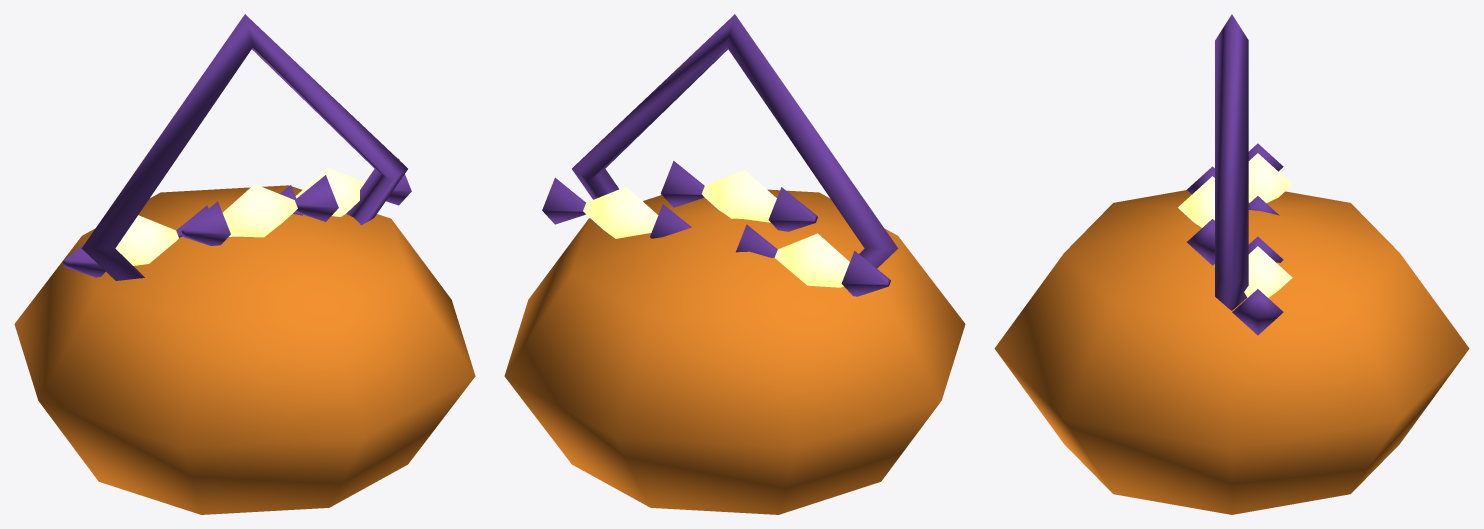
File: candy_basket_low.glb
3 renders of one model, left to right at view 1: azimuth 30°, elevation 25°; view 2: azimuth 150°, elevation 25°; view 3: azimuth 270°, elevation 25°, orthographic.
Size of the model in its own units: 0.3668 by 0.4 by 0.3668.
